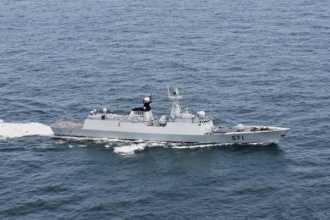warship: (48, 92, 295, 147)
